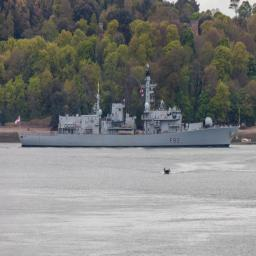Fragata: (16, 62, 243, 151)
